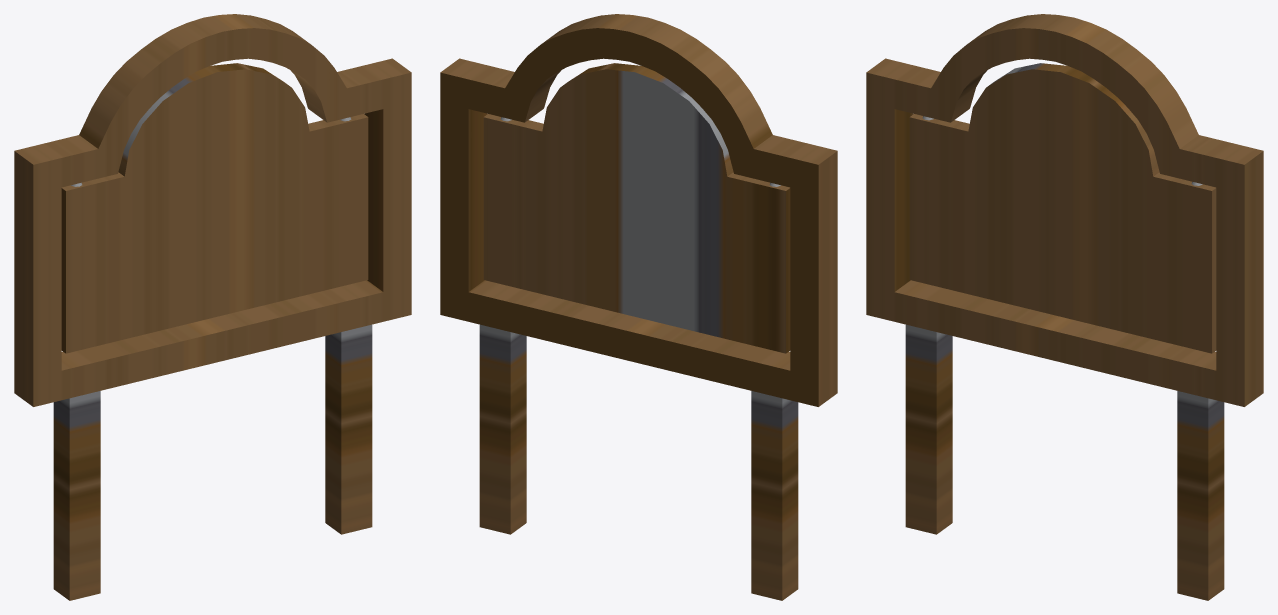
File: objects_un_t05entranceboard01.gltf
3 renders of one model, left to right at view 1: azimuth 30°, elevation 25°; view 2: azimuth 150°, elevation 25°; view 3: azimuth 330°, elevation 25°, orthographic.
Visible parts, largest first — view 1: board01_shape:objects_un_t05entranceboard01_01; view 2: board01_shape:objects_un_t05entranceboard01_01; view 3: board01_shape:objects_un_t05entranceboard01_01.
Part boxes in pixels (x1,y1,x2,y2): board01_shape:objects_un_t05entranceboard01_01: (14, 14, 411, 600); board01_shape:objects_un_t05entranceboard01_01: (440, 14, 837, 600); board01_shape:objects_un_t05entranceboard01_01: (866, 14, 1263, 600).
Size of what is drawn, in the model's own units: 1.95 by 2.62 by 0.1712.
1 material, 1 textured.
